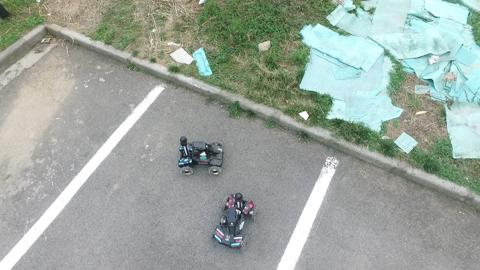chariot: (164, 128, 233, 185), (208, 189, 262, 259)
